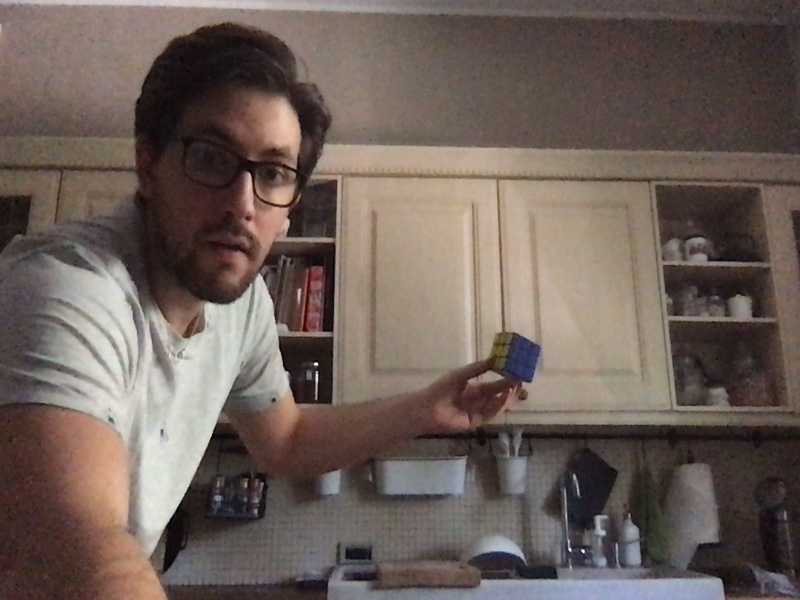rubik: (487, 331, 542, 383)
